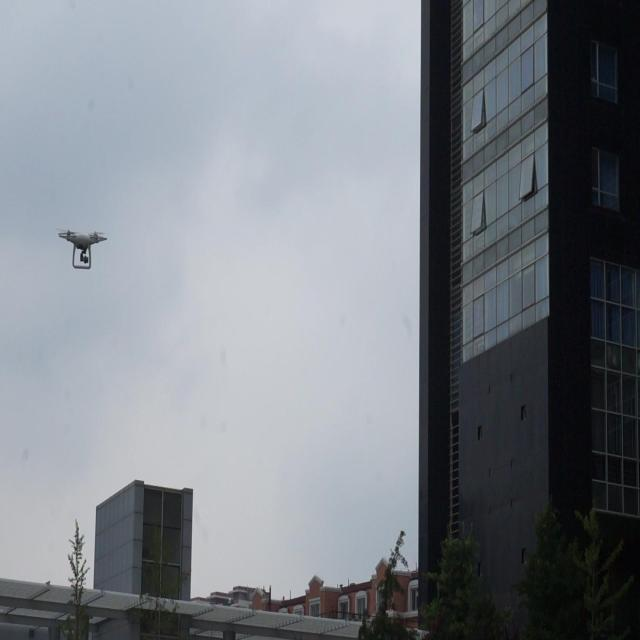drone: (54, 224, 109, 274)
